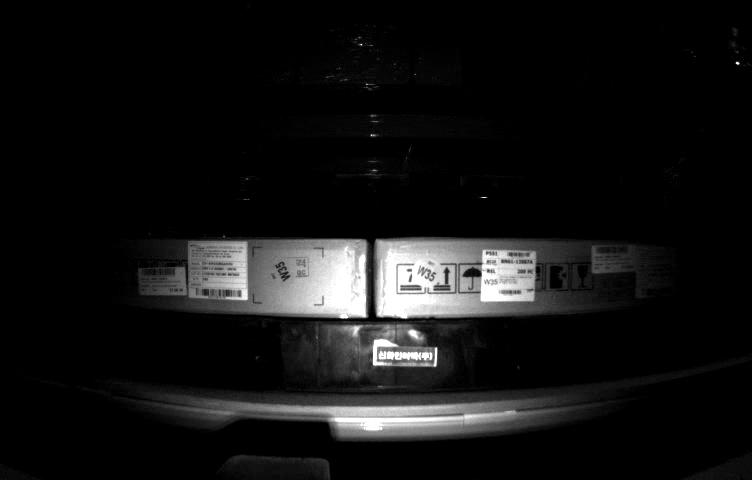True Barcode: (478, 247, 536, 303)
